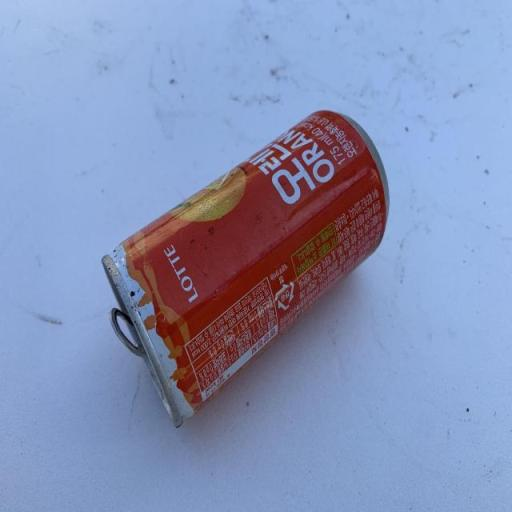metal: (85, 80, 416, 464)
